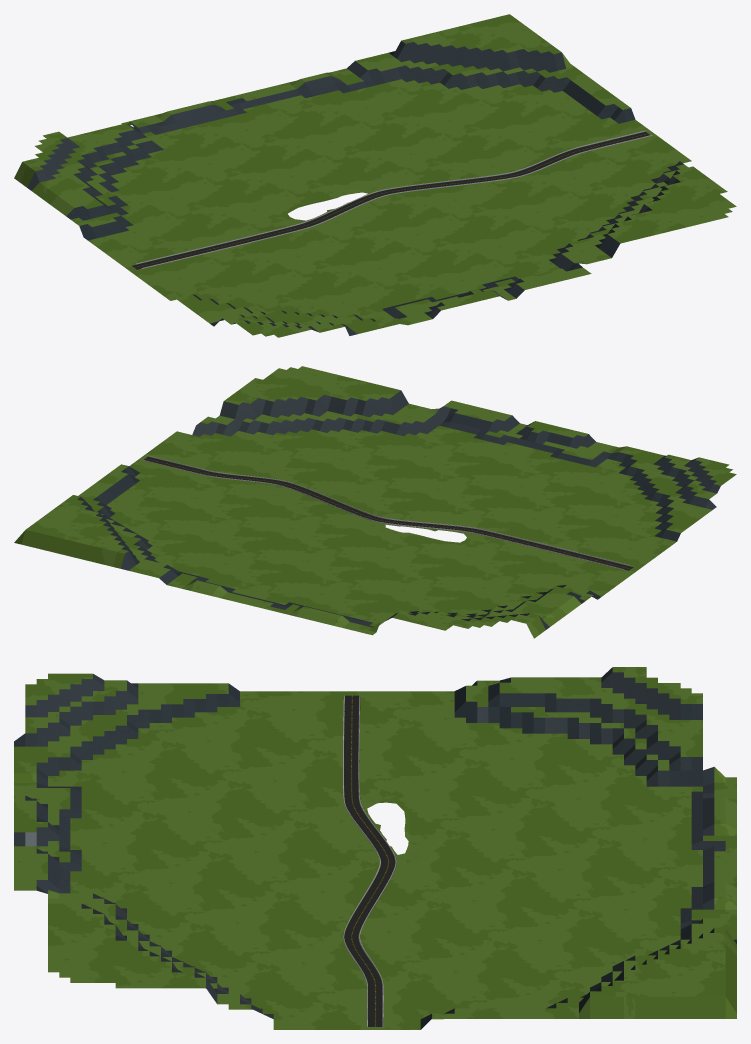
The model's file is track_m=0.glb.
3 renders of one model, top to bottom at view 1: azimuth 30°, elevation 25°; view 2: azimuth 150°, elevation 25°; view 3: azimuth 270°, elevation 25°, orthographic. The views are drawn at different scales.
Parts seen in each view (by area): view 1: Plane.001, Plane.002, Plane, Cube.001, Cube; view 2: Plane.001, Plane.002, Plane, Cube.001, Cube; view 3: Plane.001, Plane.002, Plane.
Boxes of the visible parts, <box> form: Plane.001: <box>14,14,736,337</box>; Plane.002: <box>27,41,683,335</box>; Plane: <box>131,131,649,269</box>; Cube.001: <box>135,130,646,264</box>; Cube: <box>141,135,652,268</box>; Plane.001: <box>14,366,736,638</box>; Plane.002: <box>77,390,720,629</box>; Plane: <box>144,456,633,570</box>; Cube.001: <box>141,459,624,569</box>; Cube: <box>147,455,630,565</box>; Plane.001: <box>14,667,736,1029</box>; Plane.002: <box>14,667,736,1029</box>; Plane: <box>343,695,396,1026</box>.
Size of the model in its own units: 22.52 by 0.9474 by 20.32.
Materials: 5 (5 with a texture image).
